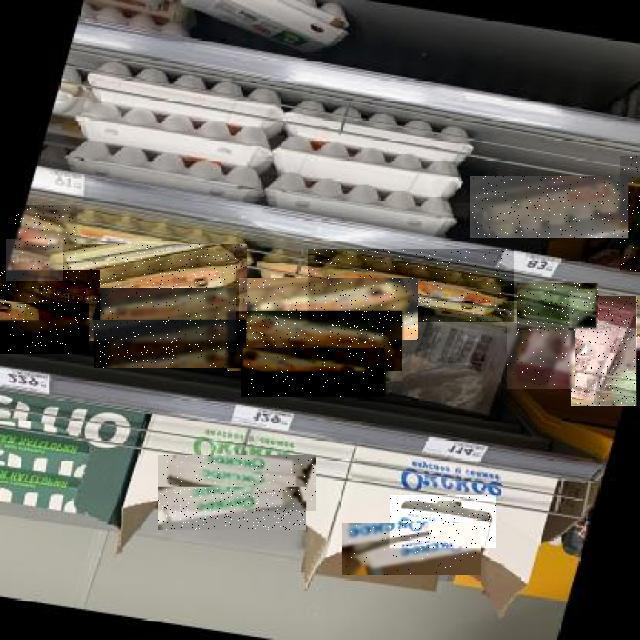Eggs: (309, 249, 515, 322), (50, 244, 247, 318), (239, 278, 418, 340), (227, 311, 402, 371), (470, 176, 628, 238), (159, 455, 317, 511), (86, 288, 236, 341), (572, 296, 640, 406), (94, 320, 246, 368), (342, 523, 481, 575), (242, 348, 388, 397), (159, 487, 307, 530), (390, 495, 496, 548), (0, 271, 100, 321), (0, 303, 89, 354), (507, 323, 575, 389), (518, 284, 600, 332), (15, 205, 77, 250), (6, 239, 63, 281), (620, 156, 640, 272)
